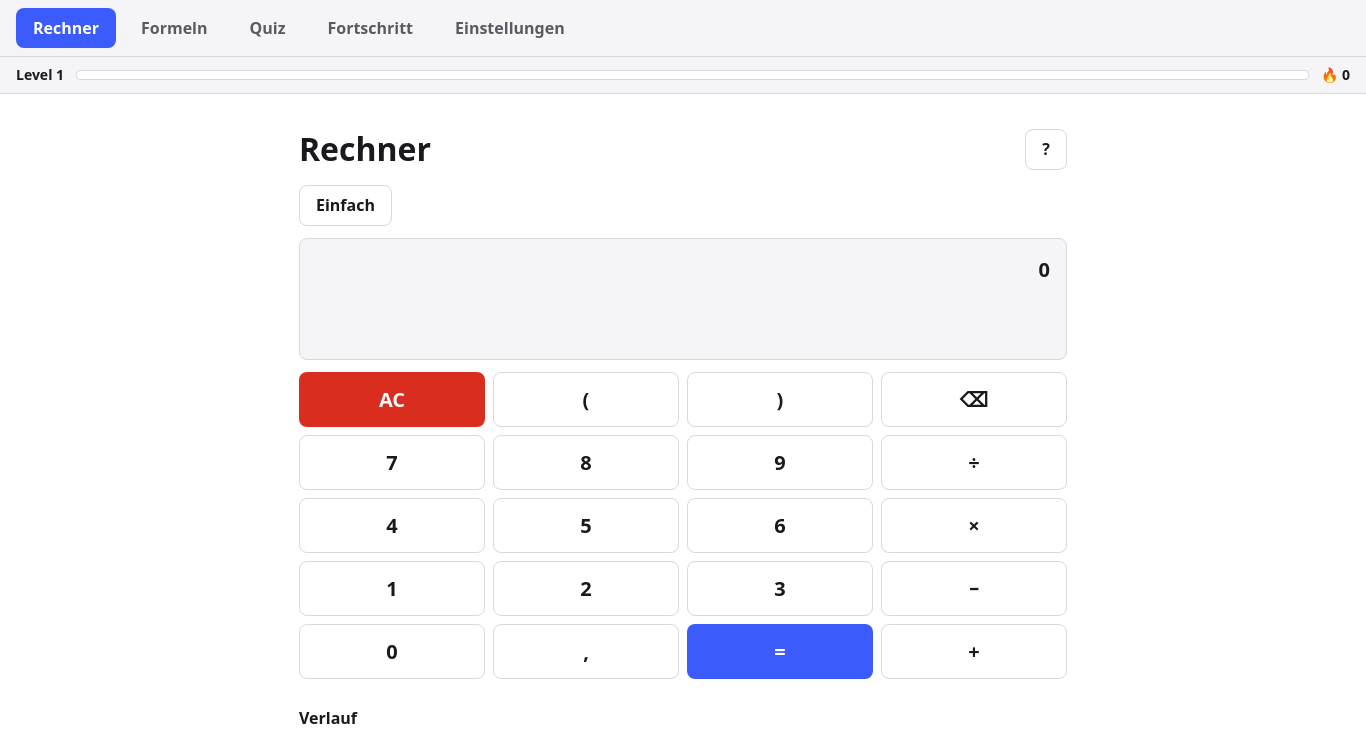
Test case: AppShell › zeigt beim Wechsel zu Einstellungen die Einstellungen-Ansicht
What coordinates should you click on to do the following:
click the button "Einstellungen"
I would click on:
 (510, 28)
Its box is 438,8 -> 582,48.
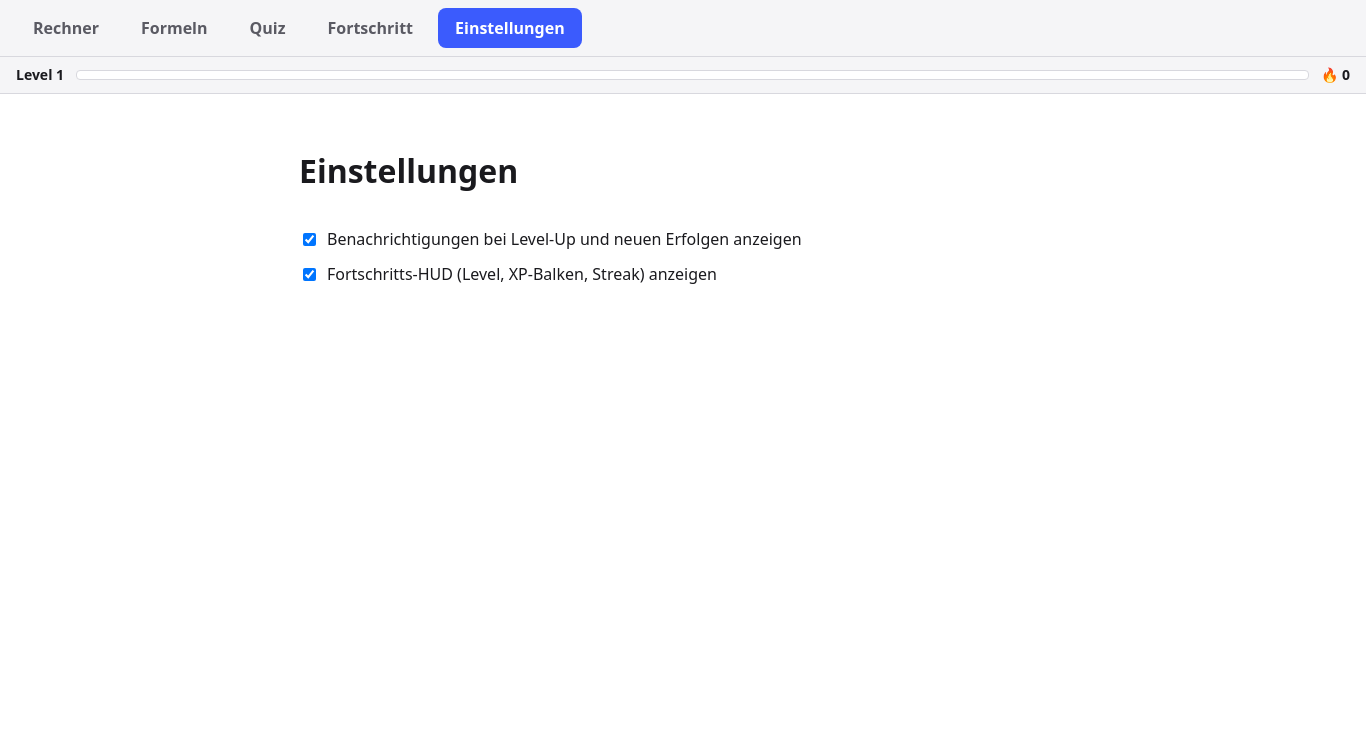
Result: the heading "Einstellungen" is shown at 299,149 -> 518,192
